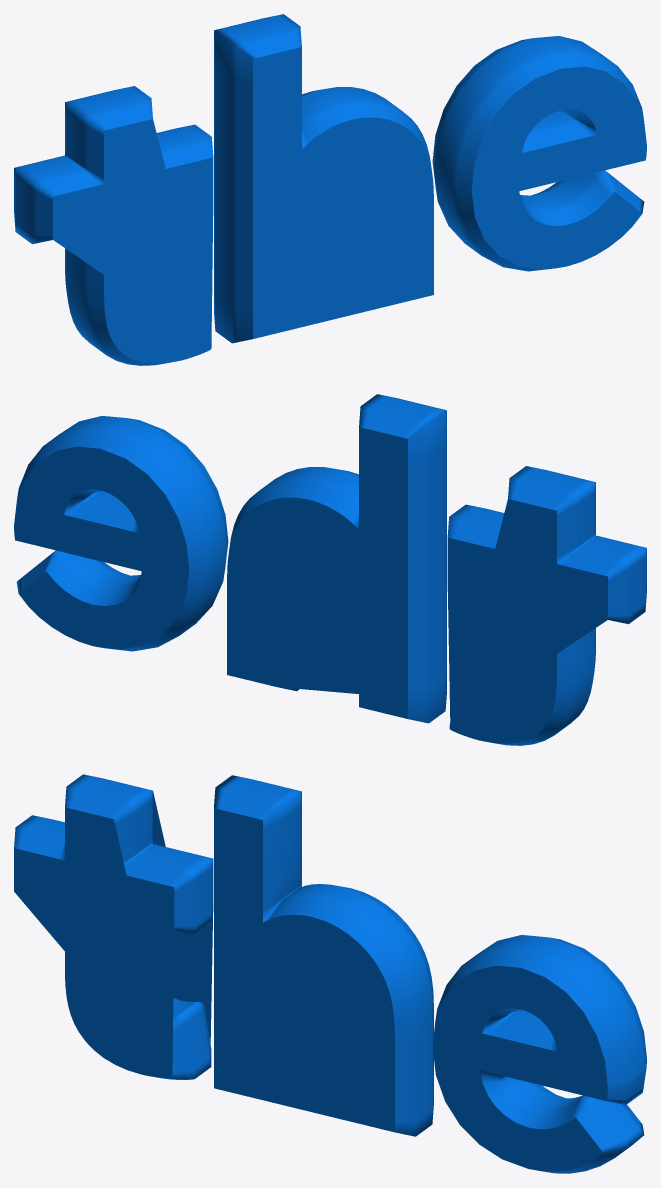
The model's file is the4.fbx.
3 views of the same model, one above another, from view 1: azimuth 30°, elevation 25°; view 2: azimuth 150°, elevation 25°; view 3: azimuth 330°, elevation 25° (orthographic).
Parts seen in each view (by area): view 1: bevelPolygon2, bevelPolygon1, bevelPolygon3; view 2: bevelPolygon2, bevelPolygon1, bevelPolygon3; view 3: bevelPolygon2, bevelPolygon1, bevelPolygon3.
Boxes of the visible parts, <box> form: bevelPolygon2: <box>214,14,433,343</box>; bevelPolygon1: <box>14,86,213,365</box>; bevelPolygon3: <box>432,36,646,271</box>; bevelPolygon2: <box>227,394,446,723</box>; bevelPolygon1: <box>447,466,646,745</box>; bevelPolygon3: <box>14,416,228,651</box>; bevelPolygon2: <box>214,775,433,1136</box>; bevelPolygon1: <box>14,774,213,1079</box>; bevelPolygon3: <box>432,935,646,1173</box>.
Bounding box in the file's own units: 6.34 × 3.01 × 0.7.
